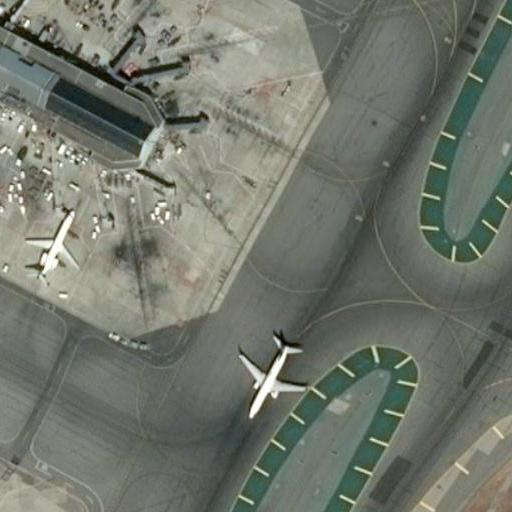Aircraft: (220, 328, 312, 426), (32, 209, 82, 285)
